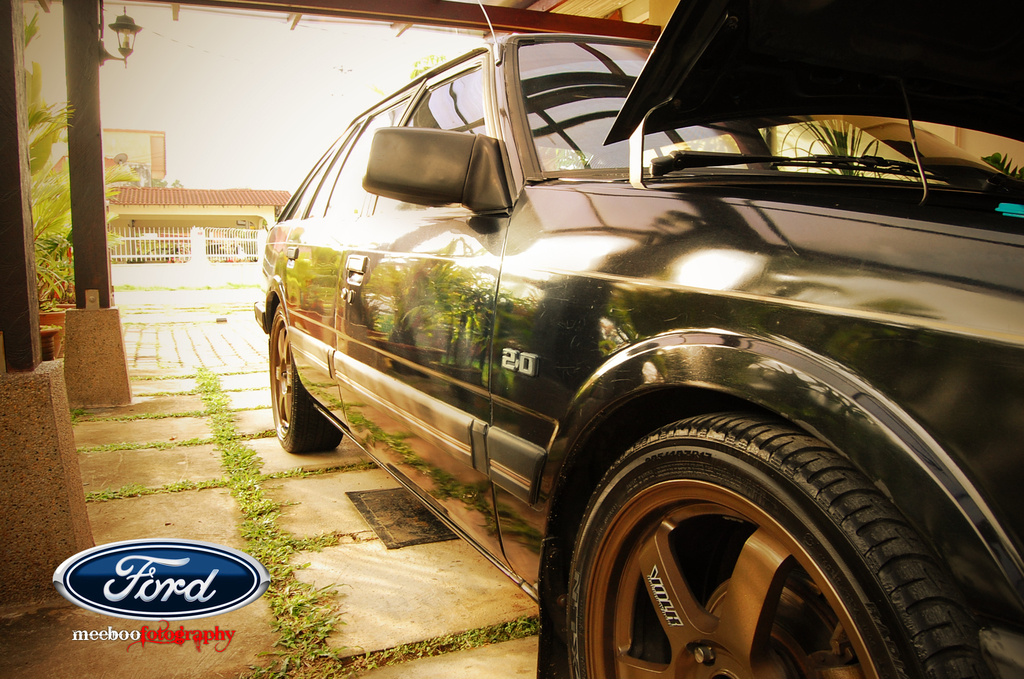Car: (251, 0, 1023, 678)
